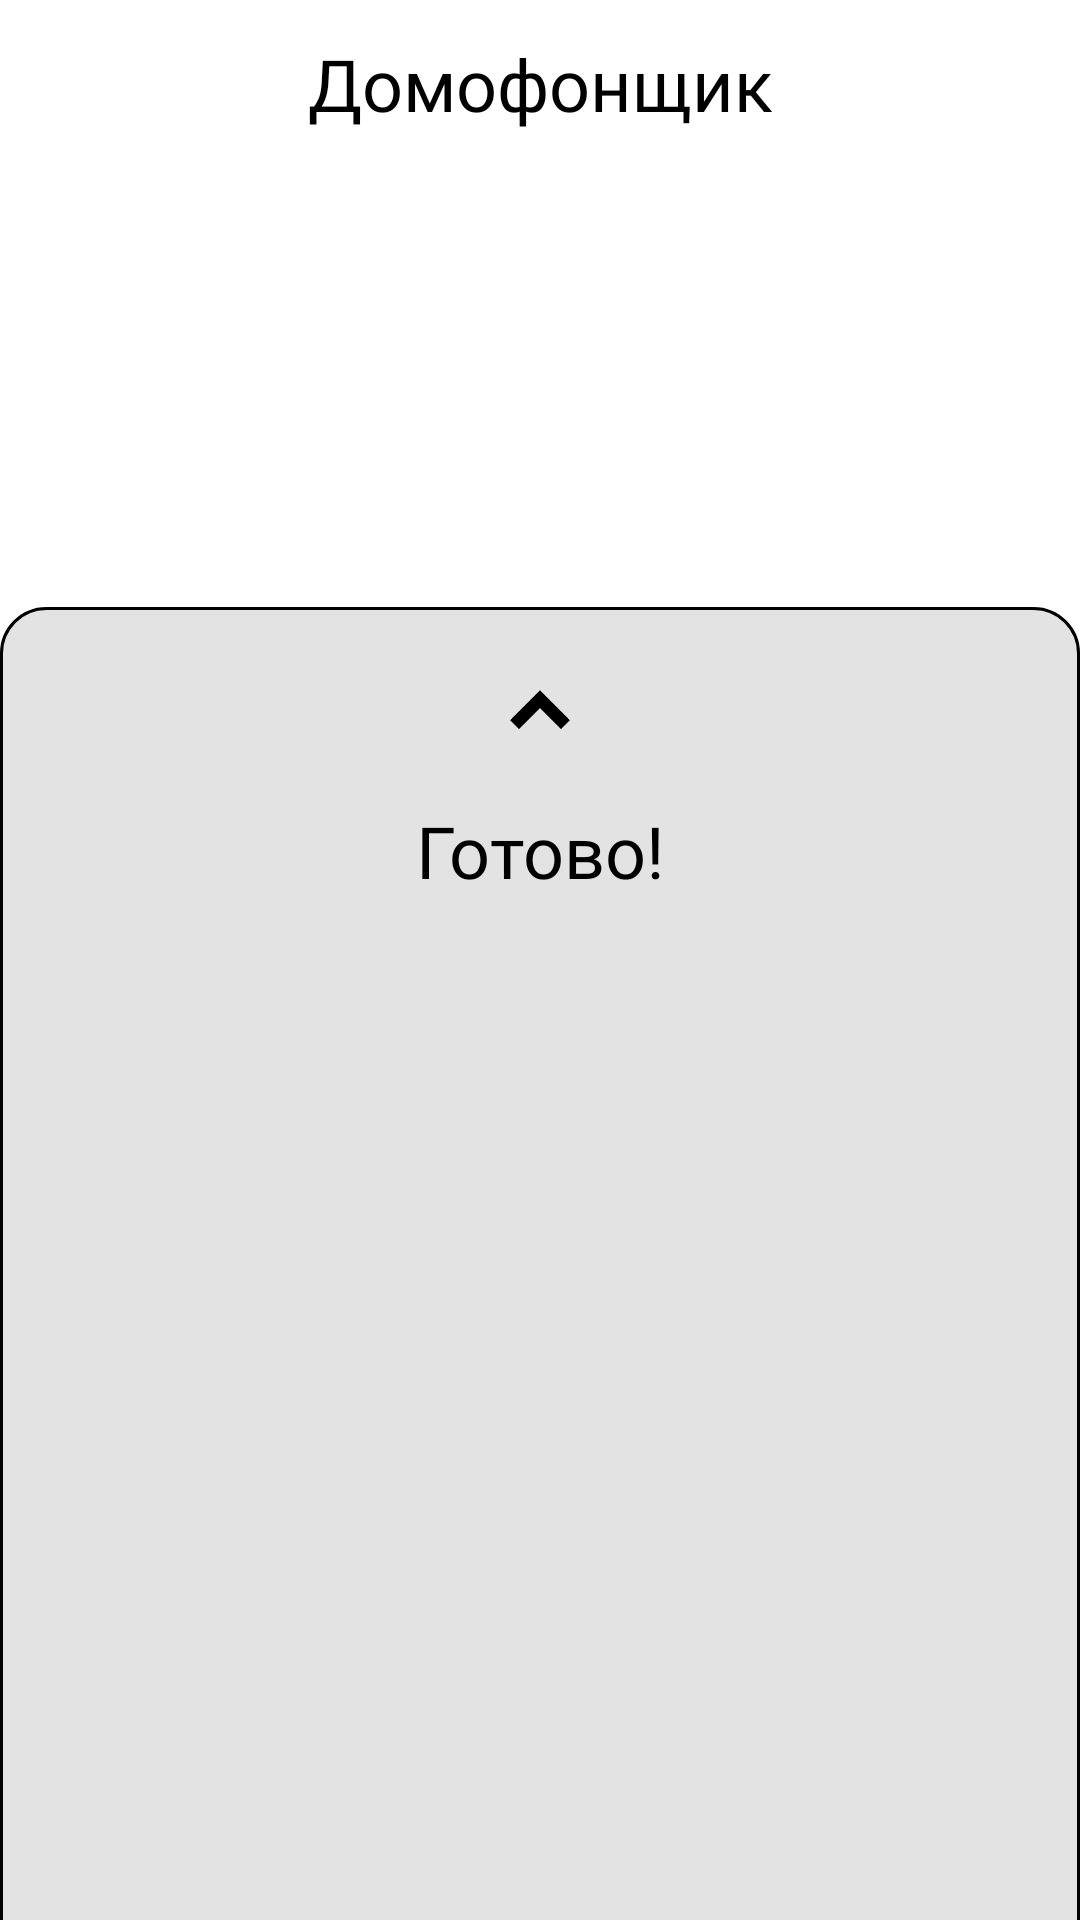

Icon click points for this 1080px×1920px phone screenshot, format [x,y]:
arrow up: [540,709]
